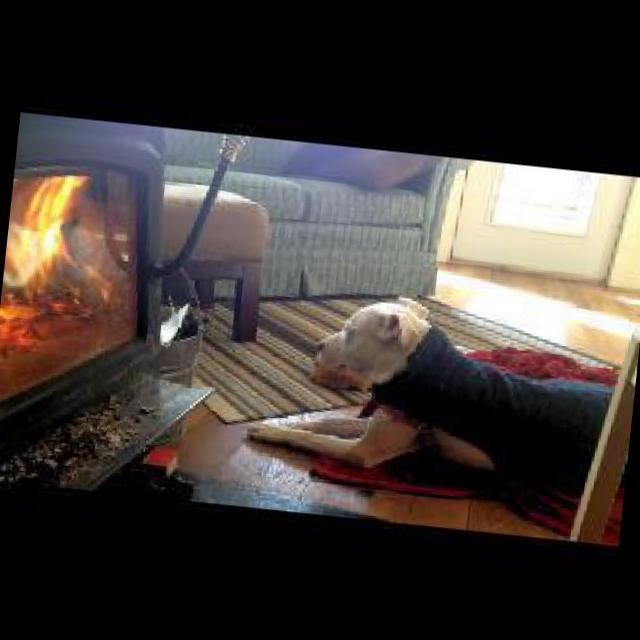fire: (0, 163, 112, 354)
